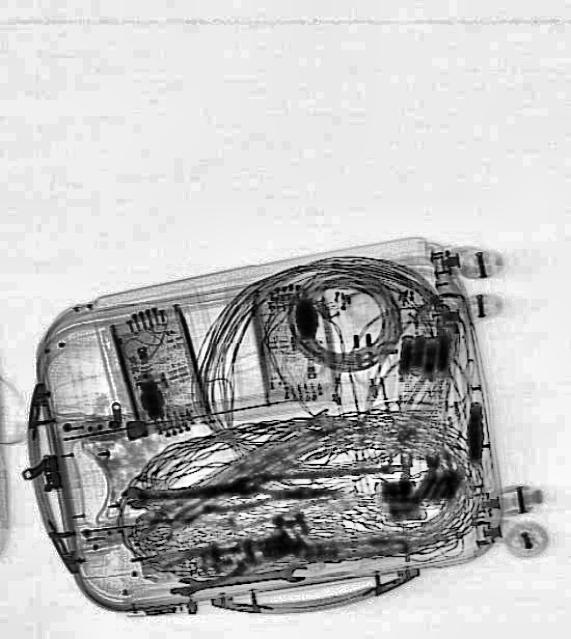Wrench: (121, 471, 259, 511), (166, 562, 308, 598)
